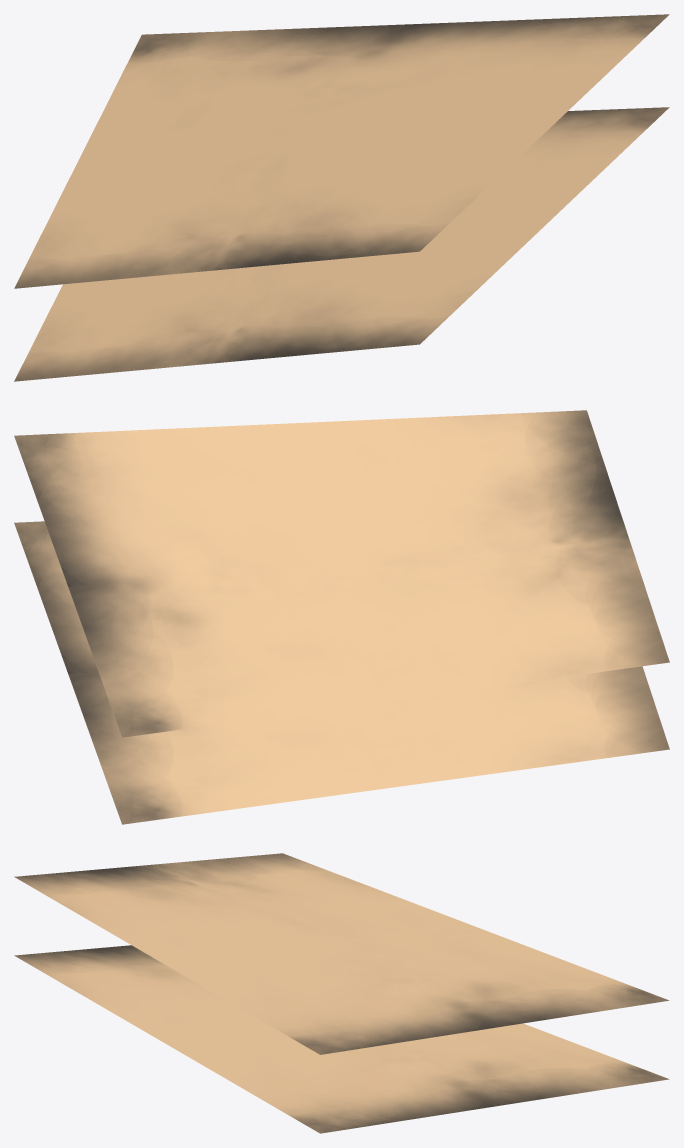
Rendered from CourseSummer_CurveFloor_5_4.fbx.
3 renders of one model, top to bottom at view 1: azimuth 30°, elevation 25°; view 2: azimuth 150°, elevation 25°; view 3: azimuth 270°, elevation 25°, orthographic. The views are drawn at different scales.
Visible parts, largest first — view 1: polySurface359; view 2: polySurface359; view 3: polySurface359.
Part boxes in pixels (x1=…): polySurface359: x1=14, y1=14, x2=669, y2=381; polySurface359: x1=14, y1=410, x2=669, y2=824; polySurface359: x1=14, y1=853, x2=669, y2=1133.
Bounding box in the file's own units: 7.64 × 2 × 7.55.
Materials: 1 (1 with a texture image).
